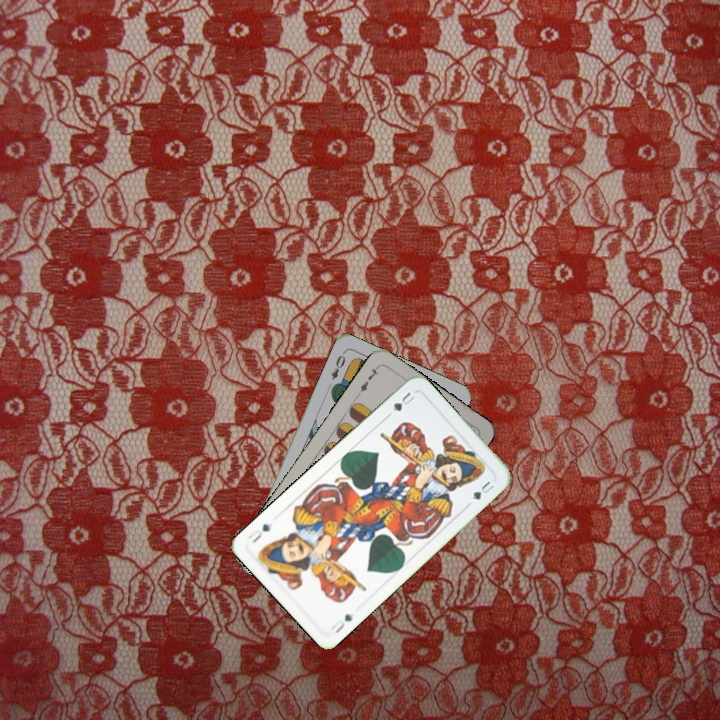E7: (354, 362, 382, 398)
EO: (327, 348, 348, 382)
GU: (388, 388, 418, 414), (327, 610, 356, 636)
